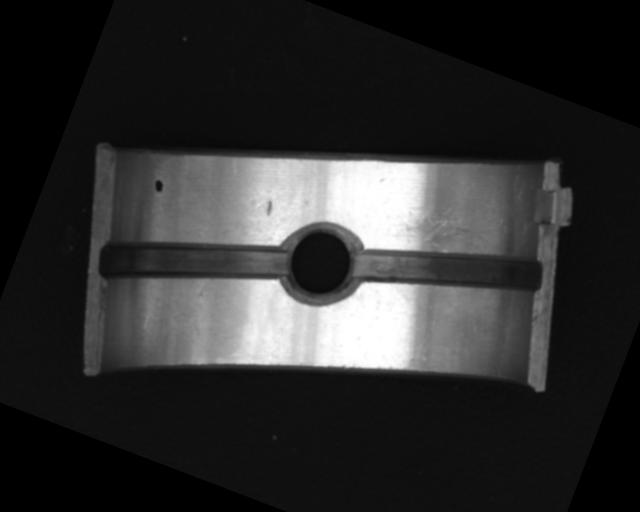blot: (151, 176, 166, 194)
bruise: (263, 199, 276, 217)
gap: (93, 190, 292, 334), (349, 199, 549, 339)
hole: (269, 214, 369, 313)
scratch: (387, 187, 498, 271)
